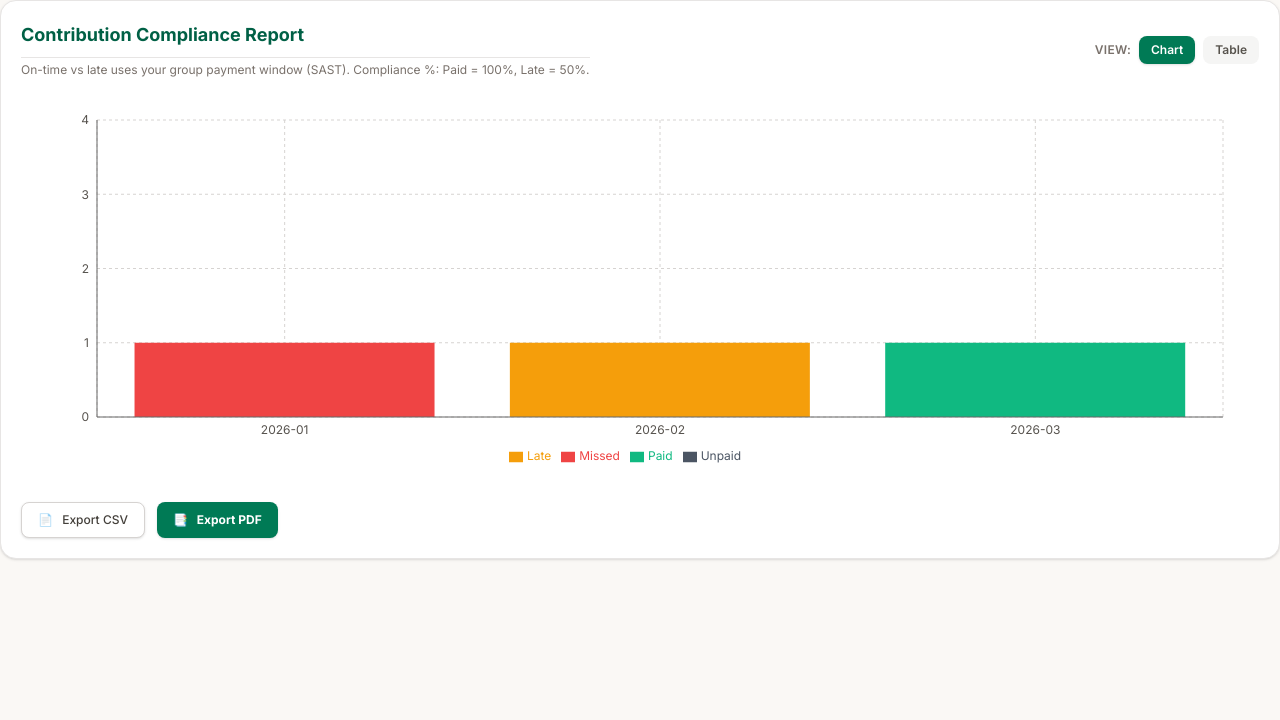
ComplianceReportWidget › renders Paid, Late, and Missed badges in table view
The image size is (1280, 720).
Click the button "Table". click: (1231, 50)
box: [1203, 36, 1259, 64]
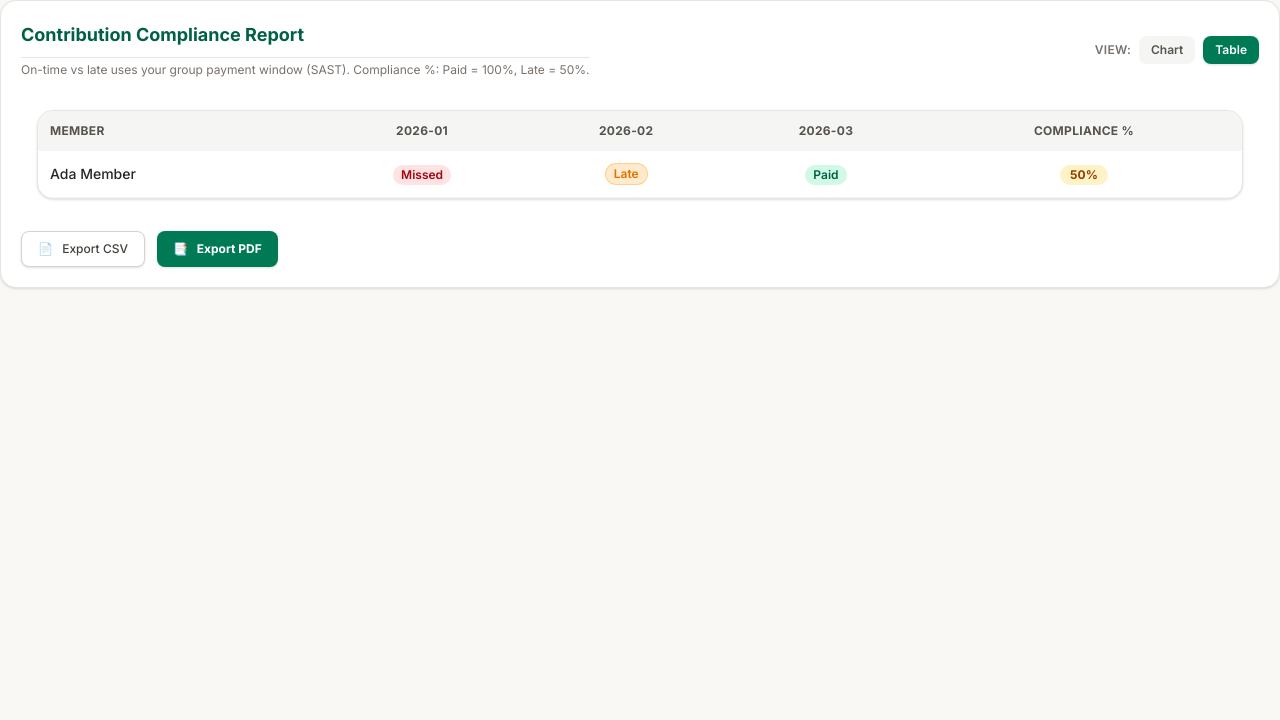
Expected: the text "Ada Member" is shown, [38, 151, 318, 198]
